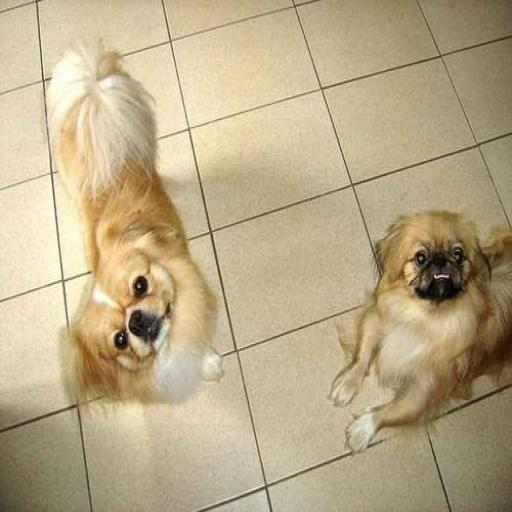dog_face: (67, 248, 175, 388), (388, 207, 485, 301)
